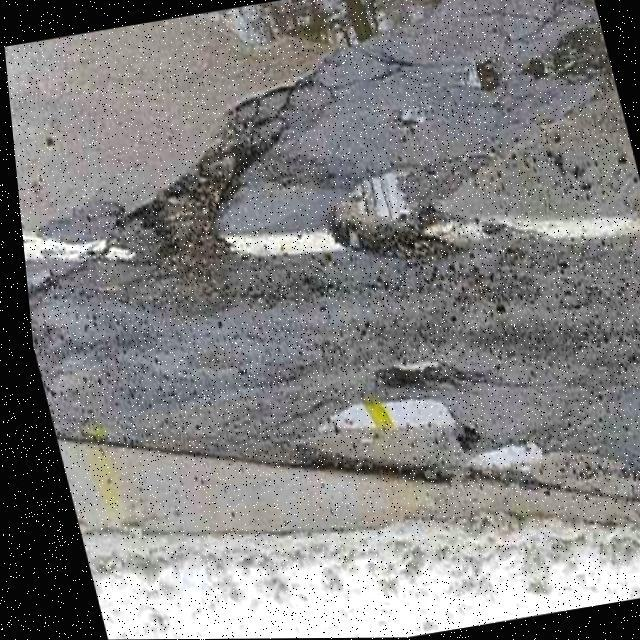pothole: (66, 89, 304, 277), (301, 148, 474, 275), (279, 371, 478, 464), (443, 430, 551, 497)
